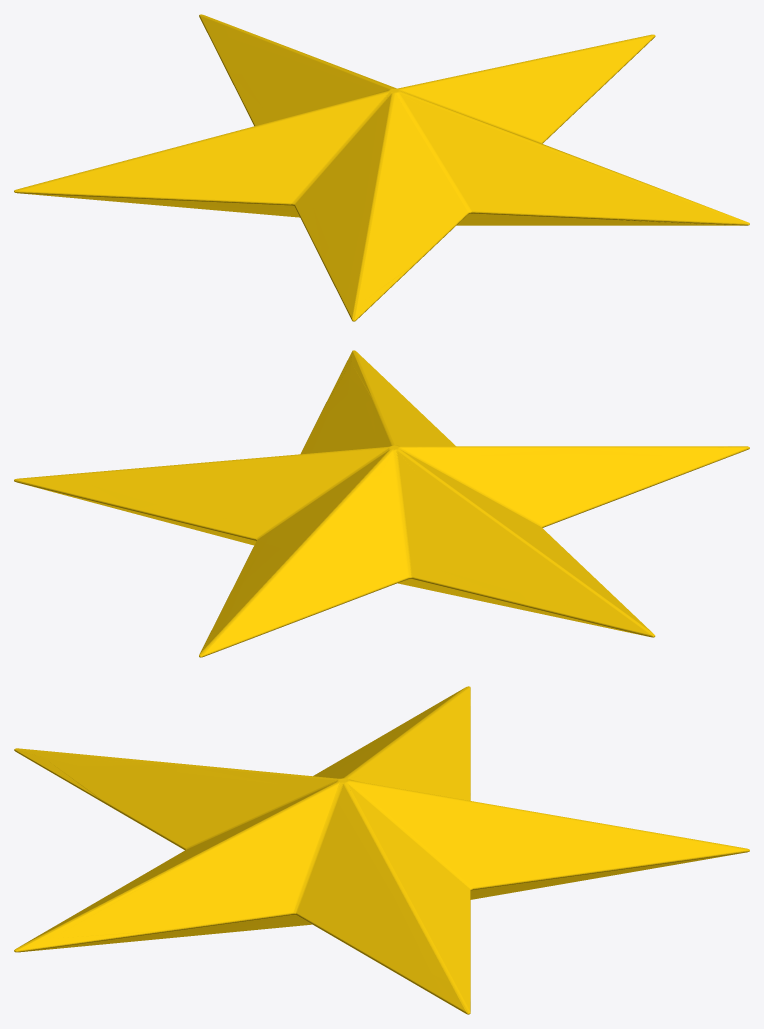
The model's file is star.FBX.
The picture shows the model from 3 angles, top to bottom: view 1: azimuth 30°, elevation 25°; view 2: azimuth 150°, elevation 25°; view 3: azimuth 270°, elevation 25°; orthographic projection. The views are drawn at different scales.
Parts seen in each view (by area): view 1: Cube; view 2: Cube; view 3: Cube.
Boxes of the visible parts, <box> form: Cube: <box>14,14,749,321</box>; Cube: <box>14,350,749,657</box>; Cube: <box>14,686,749,1014</box>.
Size of the model in its own units: 3.12 by 0.6219 by 2.97.
